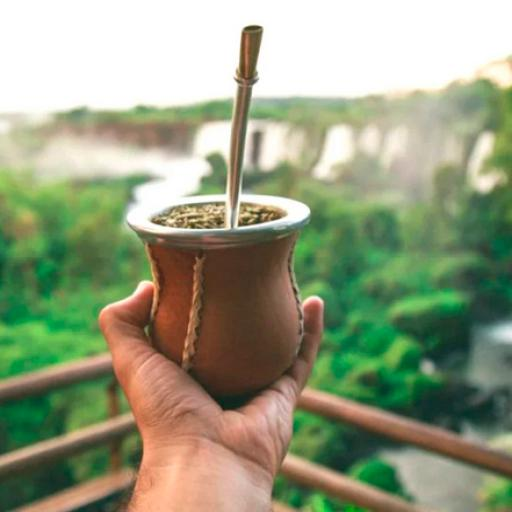mate: (127, 26, 311, 401)
